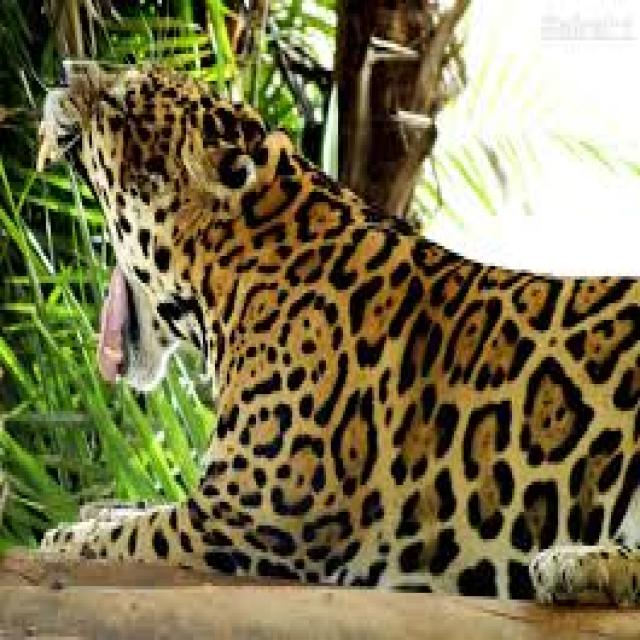Jaguar: (31, 57, 640, 613)
